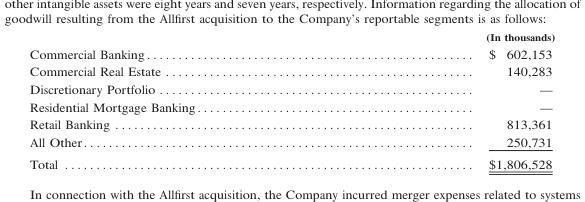table: (29, 29, 554, 171)
table column: (29, 29, 479, 171), (479, 29, 554, 171)
table column header: (29, 29, 554, 43)
table row: (29, 151, 554, 171), (29, 132, 554, 151), (29, 43, 554, 61), (29, 61, 554, 79), (29, 79, 554, 97), (29, 114, 554, 132), (29, 97, 554, 114), (29, 29, 554, 43)
